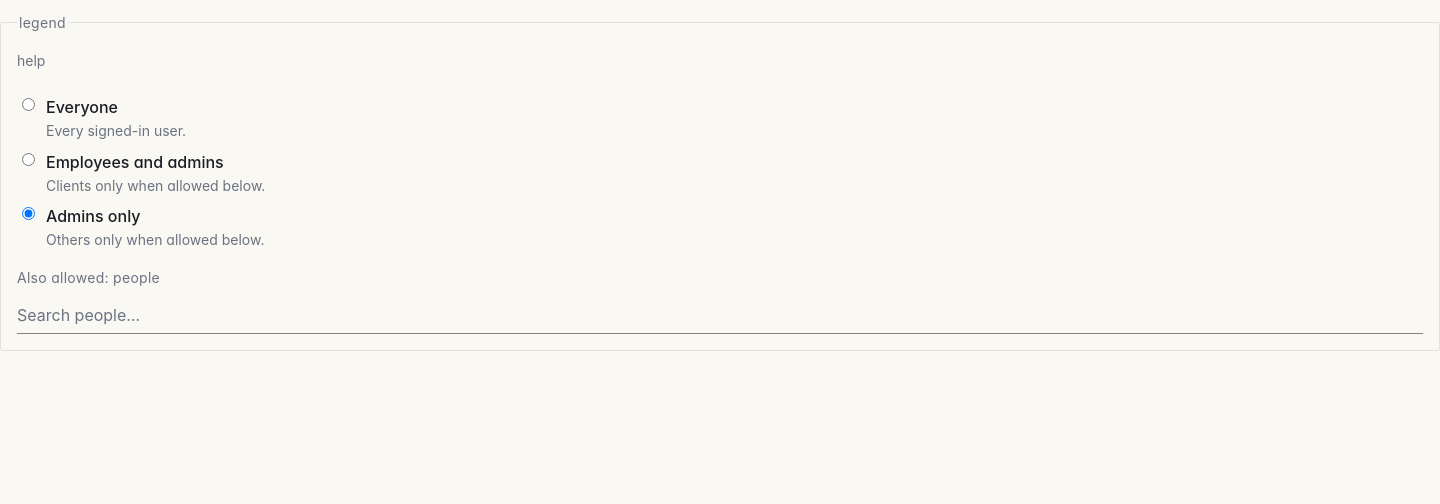
it: SecretPolicySide › offers clients on the send gate
The image size is (1440, 504).
Type "an" into the search field with placeholder "Search people…" at x=720, y=315, box [17, 296, 1423, 334]
Wait 250 ms
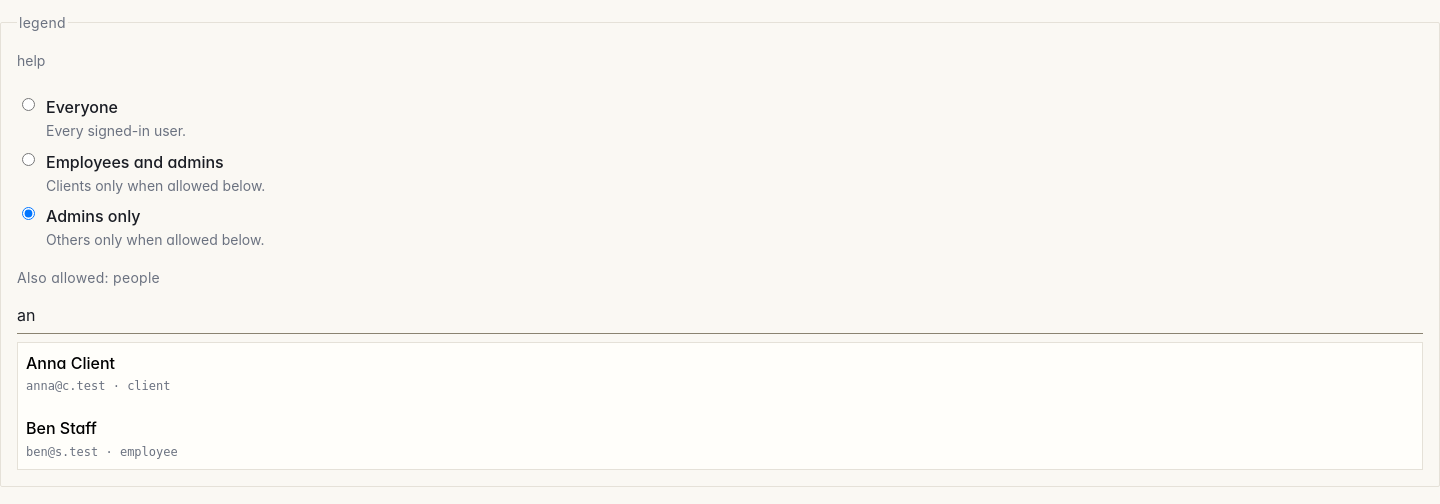
Now the elements with class "row-name" read "Anna Client", "Ben Staff", in this order, box [26, 350, 115, 375]; [26, 416, 97, 441]
